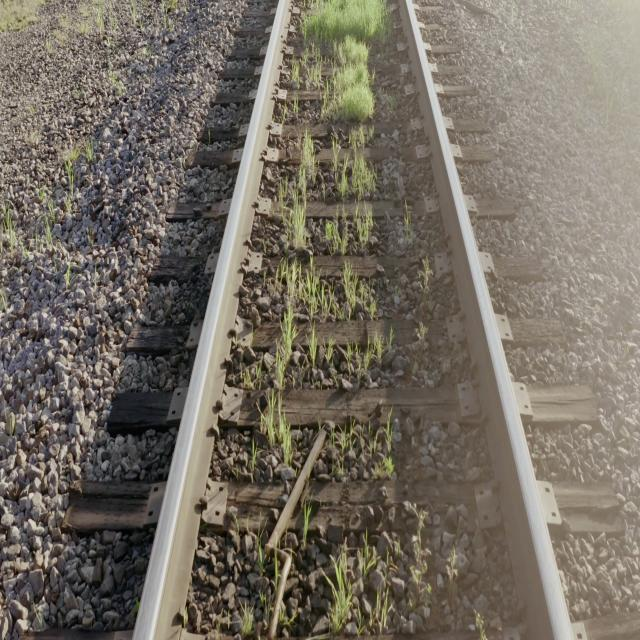Plant: (261, 133, 379, 462), (290, 0, 390, 124), (332, 36, 374, 122), (302, 0, 388, 42), (329, 129, 376, 202), (332, 427, 392, 480), (329, 553, 362, 636), (321, 211, 372, 251), (346, 338, 381, 382), (338, 82, 374, 122), (351, 153, 376, 200), (369, 587, 394, 631), (281, 304, 298, 364), (290, 191, 306, 249), (301, 131, 315, 180)
